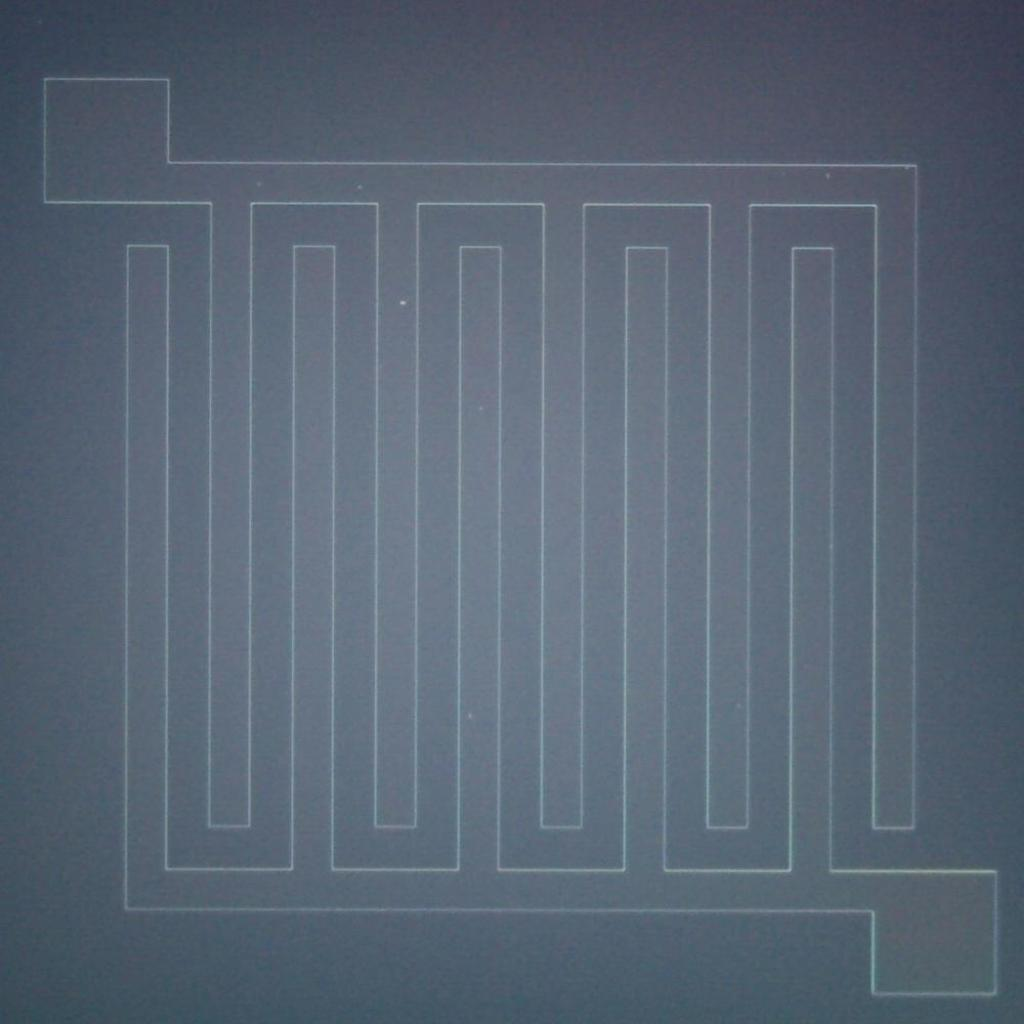dot: (472, 390, 494, 422), (398, 288, 415, 320), (820, 160, 836, 190), (462, 707, 482, 730), (253, 167, 268, 197), (348, 172, 364, 200)
